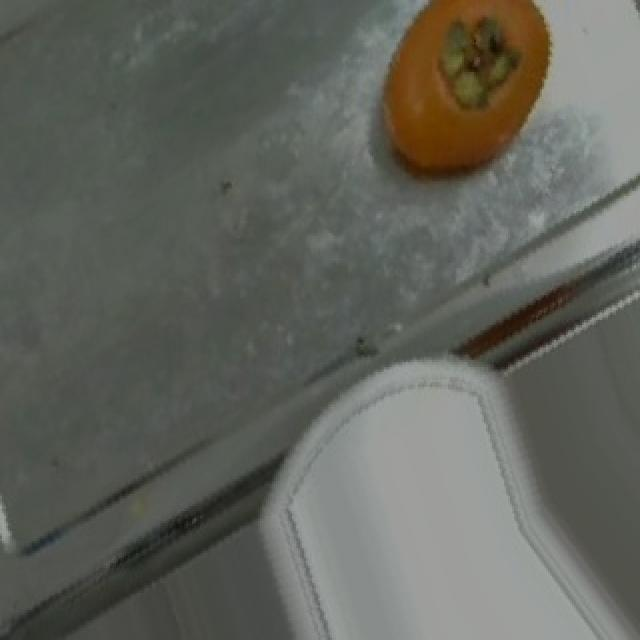Fruit: (358, 0, 574, 196)
